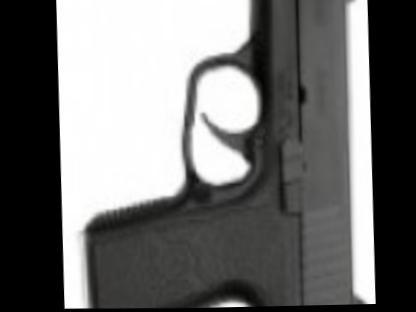pistol: (70, 0, 371, 310)
